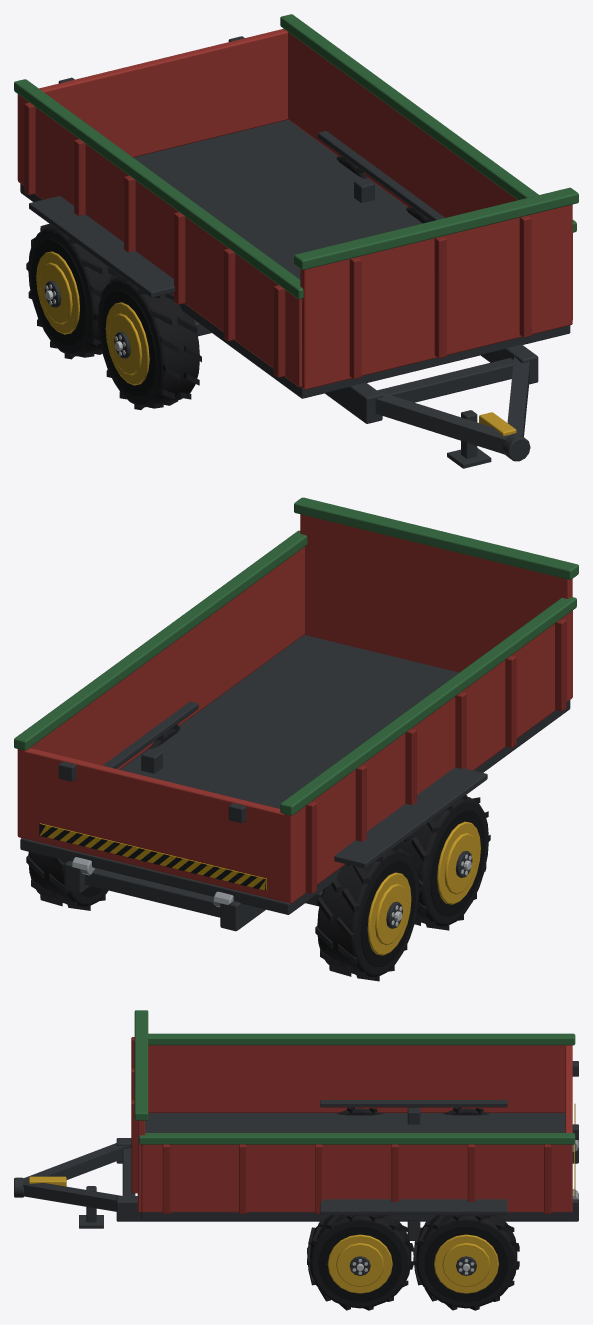
Rendered from vh_trailer.glb.
3 renders of one model, top to bottom at view 1: azimuth 30°, elevation 25°; view 2: azimuth 150°, elevation 25°; view 3: azimuth 270°, elevation 25°, orthographic. The views are drawn at different scales.
Visible parts, largest first — view 1: block.037, block.020, block.042, block.021, block.029, block.022, block.030, block.038, cyl.004, block.012, bar, cyl.050 (+21 smaller); view 2: block.020, block.037, block.042, block.029, block.021, block.022, block.030, block.038, cyl.050, block.012, cyl.004, block.009 (+16 smaller); view 3: block.021, block.029, block.020, block.022, block.030, block.016, cyl.027, cyl.073, cyl.075, cyl.029, block.038, bar.001 (+17 smaller).
Part boxes in pixels (x1,y1,x2,y2): block.037: (300,204,572,389); block.020: (20,119,570,398); block.042: (39,28,288,157); block.021: (17,94,301,387); block.029: (288,32,572,319); block.022: (14,79,303,299); block.030: (280,14,576,232); block.038: (294,187,578,269); cyl.004: (97,277,199,407); block.012: (29,195,174,297); bar: (375,391,510,454); cyl.050: (28,226,112,356); block.020: (20,634,570,914); block.037: (300,514,572,672); block.042: (24,748,284,901); block.029: (17,547,304,838); block.021: (284,610,572,903); block.022: (280,597,576,815); block.030: (14,530,307,750); block.038: (294,497,578,579); cyl.050: (317,847,419,977); block.012: (334,767,487,868); cyl.004: (397,796,488,926); block.009: (85,868,247,920); block.021: (148,1045,572,1112); block.029: (141,1144,572,1212); block.020: (141,1113,572,1220); block.022: (148,1033,575,1045); block.030: (139,1133,575,1144); block.016: (320,1199,507,1214); cyl.027: (310,1215,411,1308); cyl.073: (416,1215,517,1308); cyl.075: (424,1225,508,1301); cyl.029: (318,1225,402,1301); block.038: (134,1010,148,1120); bar.001: (22,1181,121,1211).
Bounding box in the file's own units: 2.49 × 1.67 × 4.52.
